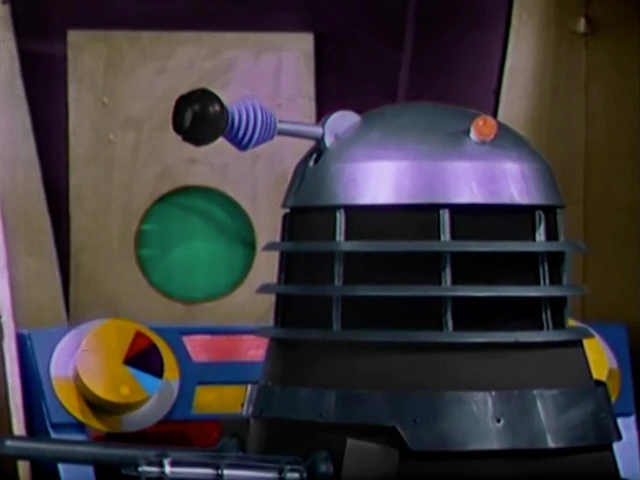Dalek: (250, 101, 613, 479)
